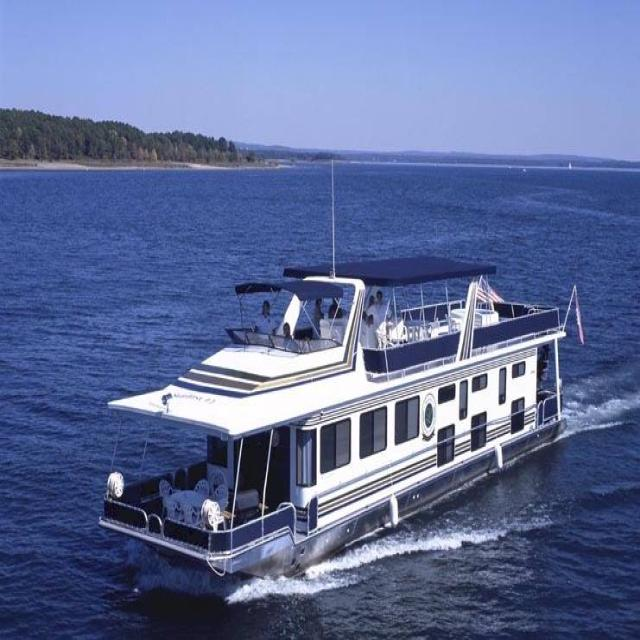passenger ship: (96, 240, 598, 578)
